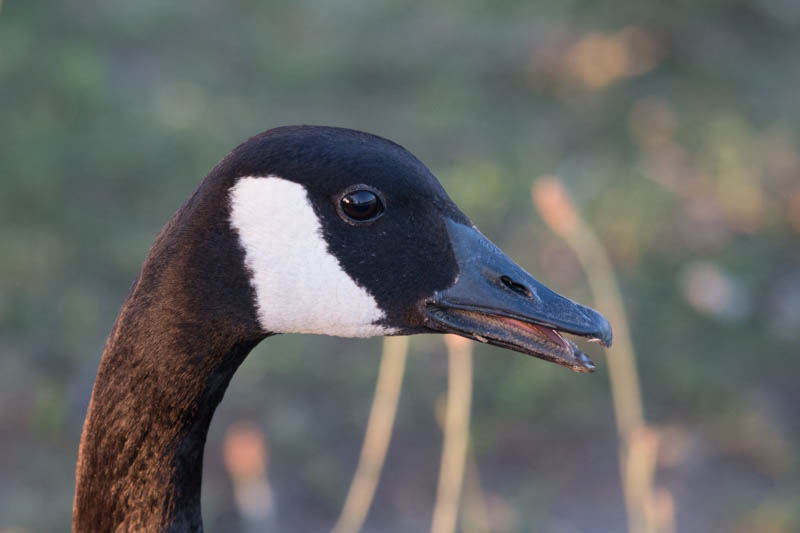goose-head: (174, 124, 613, 375)
